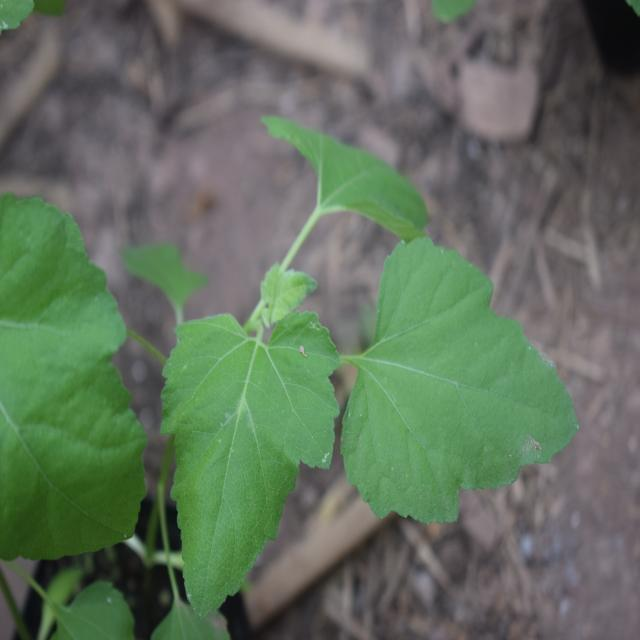cocklebur: (72, 126, 576, 570)
